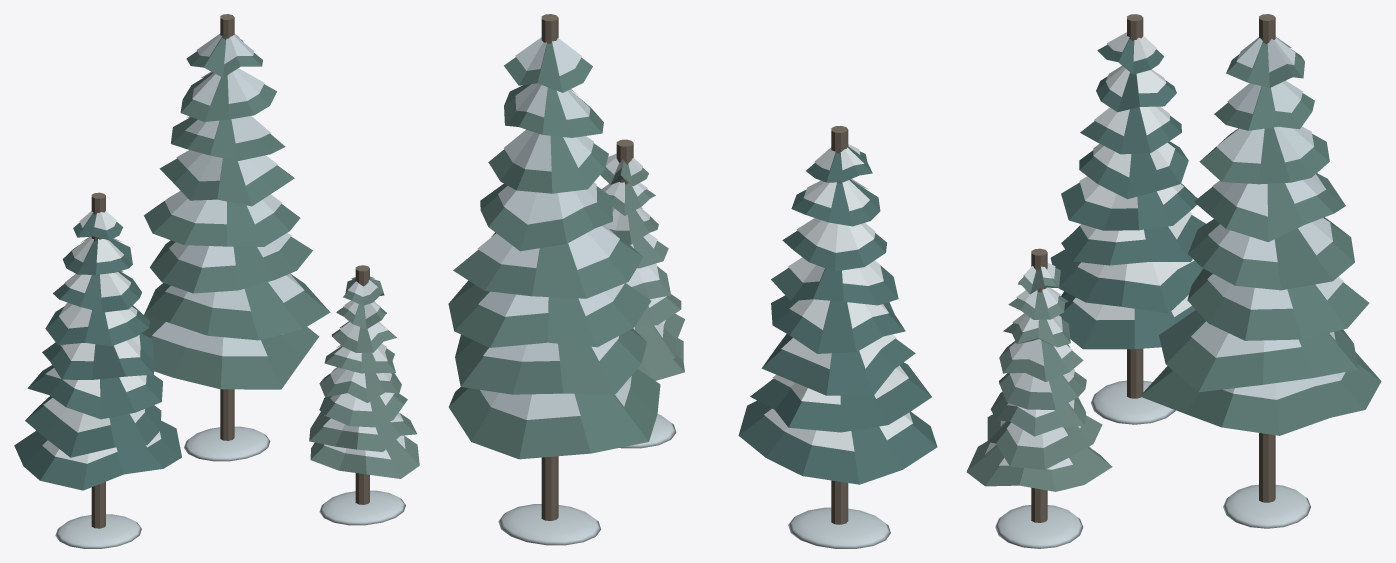
Rendered from SnowPineGrove.glb.
3 renders of one model, left to right at view 1: azimuth 30°, elevation 25°; view 2: azimuth 150°, elevation 25°; view 3: azimuth 270°, elevation 25°, orthographic. The views are drawn at different scales.
Visible parts, largest first — view 1: Snow laden pine tier.008, Snow laden pine tier.009, Snow laden pine tier, Snow laden pine tier.010, Snow laden pine tier.011, Snow laden pine tier.001, Snow laden pine tier.002, Snow laden pine tier.012, Snow laden pine tier.003, Snow laden pine tier.016, Snow laden pine tier.013, Snow laden pine tier.004 (+35 smaller); view 2: Snow laden pine tier.008, Snow laden pine tier.009, Snow laden pine tier, Snow laden pine tier.010, Snow laden pine tier.011, Snow laden pine tier.001, Snow laden pine tier.002, Snow laden pine tier.003, Snow laden pine tier.012, Snow laden pine tier.013, Pine foot drift.001, Pine foot drift (+33 smaller); view 3: Snow laden pine tier.008, Snow laden pine tier.009, Snow laden pine tier.010, Snow laden pine tier.011, Snow laden pine tier.012, Snow laden pine tier.001, Snow laden pine tier.002, Snow laden pine tier, Snow laden pine tier.003, Snow laden pine tier.016, Snow laden pine tier.013, Snow laden pine tier.004 (+38 smaller).
Part boxes in pixels (box(x1,y1,x2,y2)): Snow laden pine tier.008: box(141, 314, 319, 389); Snow laden pine tier.009: box(144, 273, 330, 340); Snow laden pine tier: box(14, 420, 181, 490); Snow laden pine tier.010: box(150, 236, 312, 293); Snow laden pine tier.011: box(144, 193, 300, 246); Snow laden pine tier.001: box(25, 396, 161, 457); Snow laden pine tier.002: box(27, 365, 162, 419); Snow laden pine tier.012: box(159, 158, 294, 206); Snow laden pine tier.003: box(42, 333, 154, 379); Snow laden pine tier.016: box(310, 435, 419, 478); Snow laden pine tier.013: box(171, 117, 285, 160); Snow laden pine tier.004: box(45, 305, 150, 346); Snow laden pine tier.008: box(449, 369, 660, 459); Snow laden pine tier.009: box(455, 328, 646, 394); Snow laden pine tier: box(738, 400, 937, 484); Snow laden pine tier.010: box(448, 280, 651, 347); Snow laden pine tier.011: box(453, 231, 643, 298); Snow laden pine tier.001: box(750, 362, 931, 432); Snow laden pine tier.002: box(761, 334, 915, 395); Snow laden pine tier.003: box(771, 295, 905, 353); Snow laden pine tier.012: box(480, 184, 612, 251); Snow laden pine tier.013: box(488, 136, 608, 193); Pine foot drift.001: box(498, 504, 600, 545); Pine foot drift: box(788, 507, 890, 548); Snow laden pine tier.008: box(1140, 352, 1381, 435); Snow laden pine tier.009: box(1159, 310, 1358, 392); Snow laden pine tier.010: box(1187, 268, 1369, 340); Snow laden pine tier.011: box(1188, 217, 1354, 290); Snow laden pine tier.012: box(1194, 173, 1345, 242); Snow laden pine tier.001: box(1050, 249, 1202, 313); Snow laden pine tier.002: box(1061, 215, 1205, 265); Snow laden pine tier: box(1059, 291, 1195, 349); Snow laden pine tier.003: box(1061, 182, 1197, 230); Snow laden pine tier.016: box(966, 441, 1112, 491); Snow laden pine tier.013: box(1199, 127, 1329, 184); Snow laden pine tier.004: box(1079, 141, 1188, 199).
Bounding box in the file's own units: 6.17 × 7.36 × 5.65.
